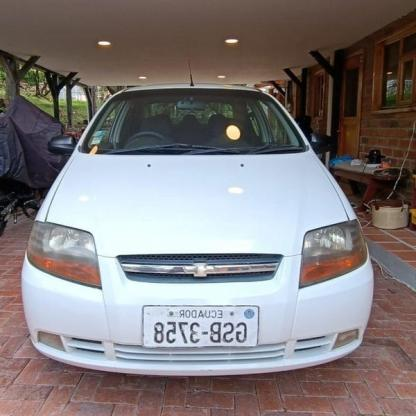Placa: (137, 304, 257, 350)
